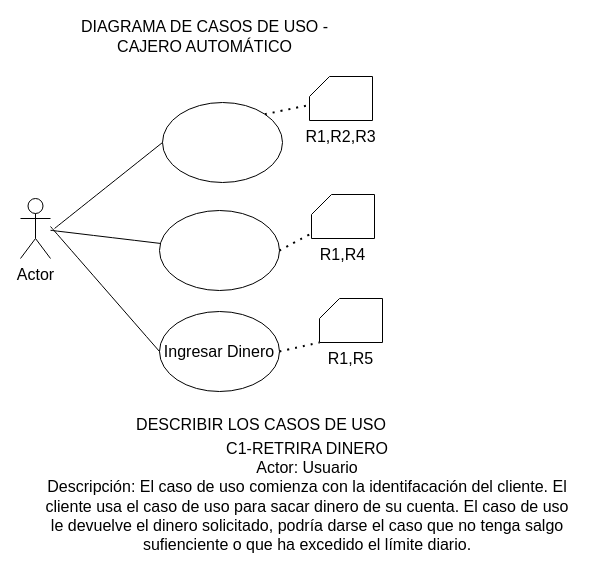
Some shapes in this 595 by 571 pixel diagram are drawn without their labels. The shapes that lost their labels are listed below. From the top down, each one's centre as x and y in pixels, then its label:
At (222,142): "Retirar Dinero".
At (219,250): "Hacer Transferencia".
